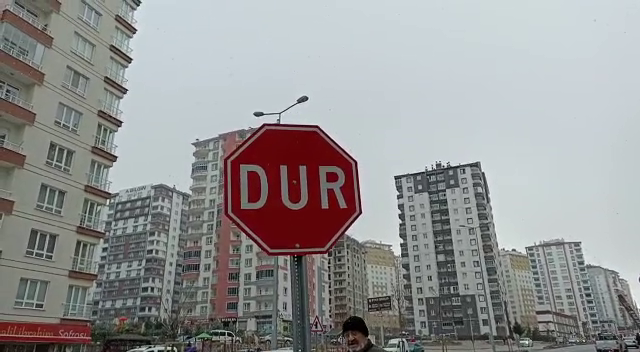stop: (221, 122, 365, 258)
